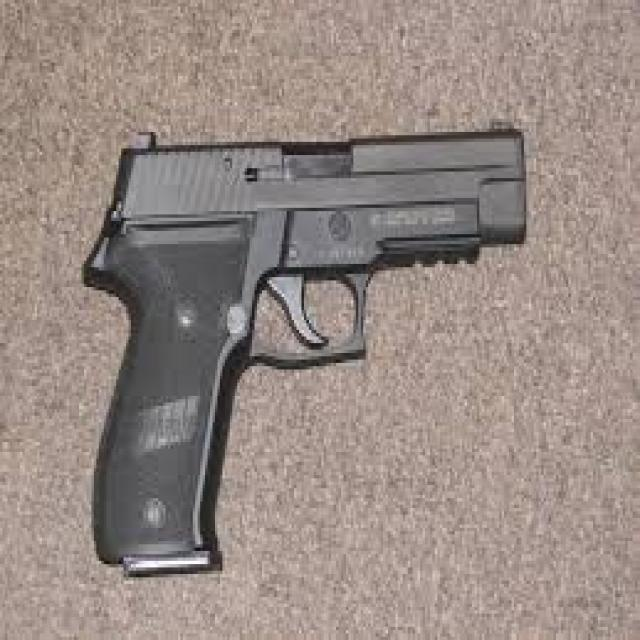semi automatic: (72, 111, 534, 590)
